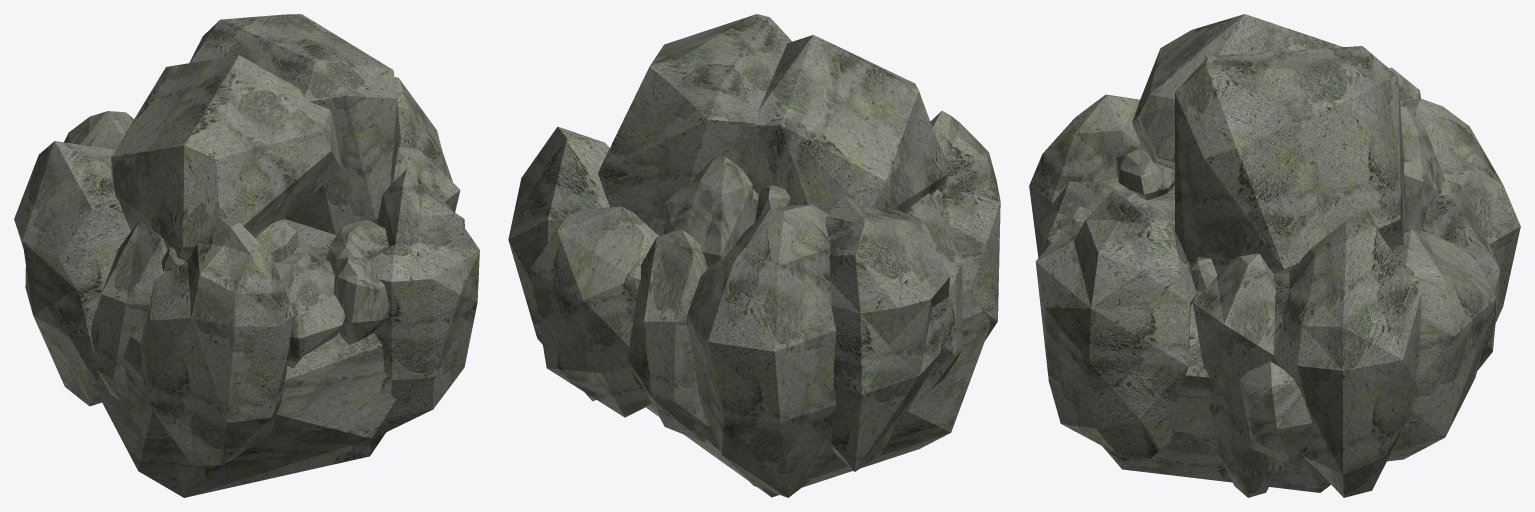
Rendered from poi_all_lair_cave_small_l1.fbx.
The picture shows the model from 3 angles, left to right: view 1: azimuth 30°, elevation 25°; view 2: azimuth 150°, elevation 25°; view 3: azimuth 270°, elevation 25°; orthographic projection. The views are drawn at different scales.
Visible parts, largest first — view 1: mesh_node; view 2: mesh_node; view 3: mesh_node.
Boxes of the visible parts, x1=… form: mesh_node: x1=14, y1=14, x2=479, y2=497; mesh_node: x1=508, y1=14, x2=1000, y2=497; mesh_node: x1=1029, y1=14, x2=1520, y2=497.
Bounding box in the file's own units: 14.08 × 13.2 × 13.22.
